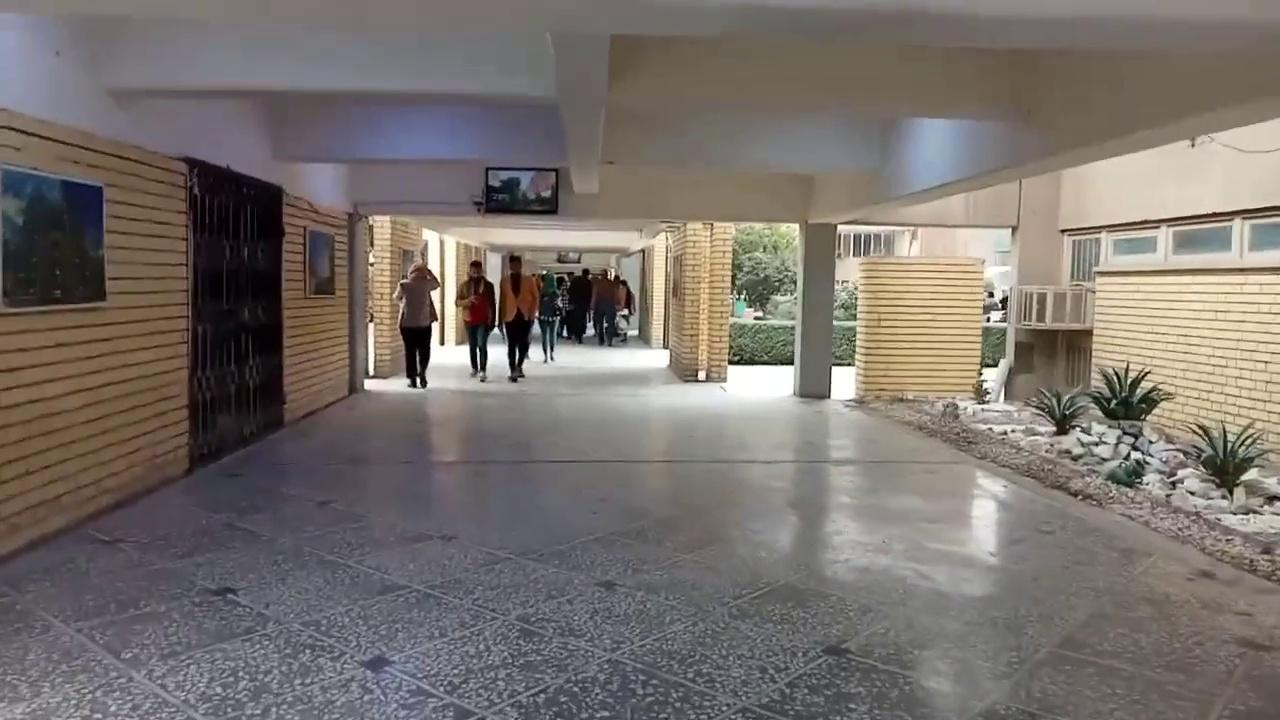person: (392, 260, 440, 388), (498, 254, 538, 382), (455, 259, 495, 381), (535, 273, 561, 363)
tree: (1182, 417, 1271, 499), (732, 222, 798, 318), (1084, 359, 1174, 425), (1023, 385, 1089, 435)
